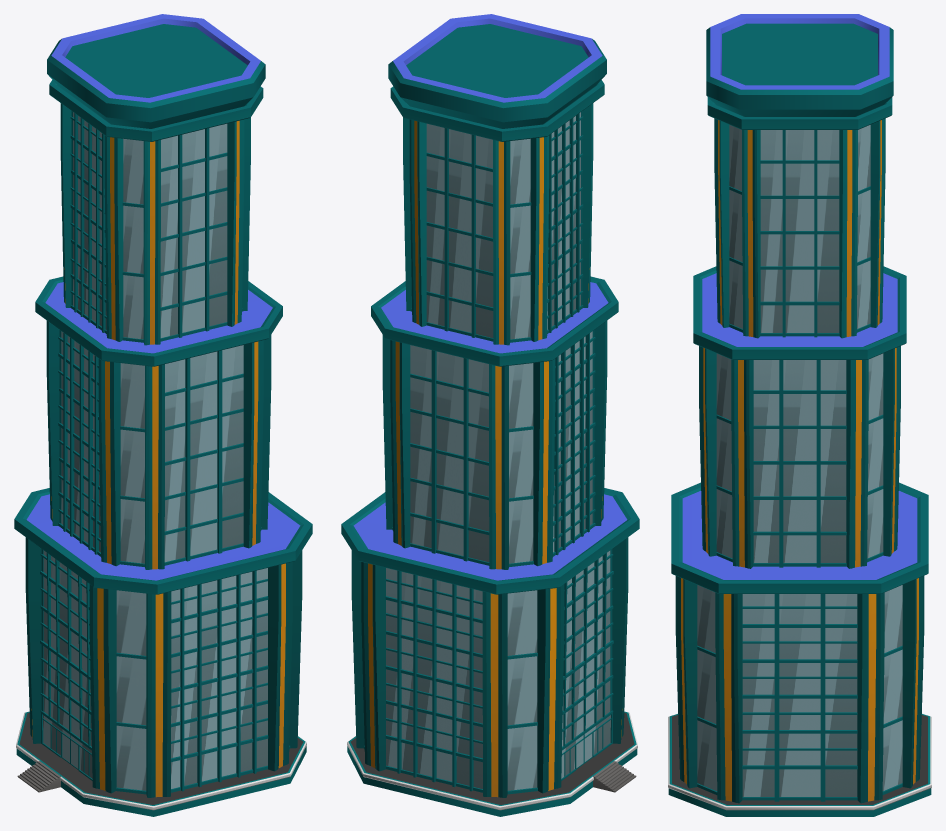
File: Building_7_1_F.fbx
3 renders of one model, left to right at view 1: azimuth 30°, elevation 25°; view 2: azimuth 150°, elevation 25°; view 3: azimuth 270°, elevation 25°, orthographic.
Visible parts, largest first — view 1: Building_7_1_F; view 2: Building_7_1_F; view 3: Building_7_1_F.
Boxes of the visible parts, x1,y1,x2,y2 form: Building_7_1_F: (14,14,312,816); Building_7_1_F: (341,14,639,816); Building_7_1_F: (668,14,931,816).
Size of the model in its own units: 2520 by 6846 by 2311.
